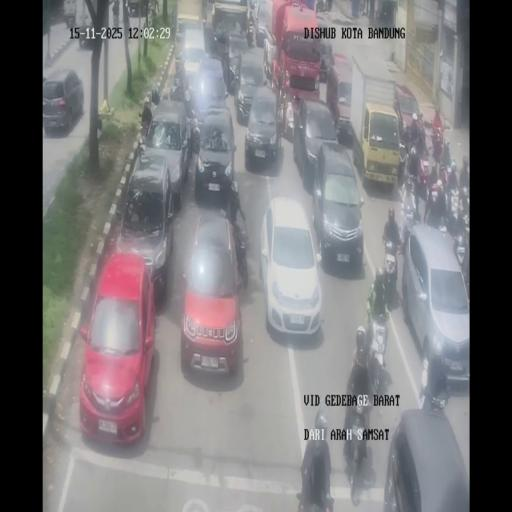car: (78, 251, 156, 442), (402, 228, 470, 386), (180, 213, 245, 375), (382, 403, 468, 510), (260, 194, 323, 336), (139, 100, 193, 202), (194, 107, 236, 205), (294, 98, 338, 190), (42, 68, 84, 134), (234, 48, 266, 122), (329, 54, 354, 138), (194, 56, 228, 114), (175, 22, 206, 78), (394, 82, 421, 138), (251, 0, 273, 47), (75, 8, 99, 49), (314, 40, 334, 82), (262, 33, 278, 84), (62, 0, 77, 27)
motorcycle: (342, 412, 374, 506), (365, 294, 391, 390), (298, 458, 334, 511), (380, 239, 400, 304), (169, 71, 195, 112), (450, 219, 468, 275), (233, 230, 249, 289), (186, 107, 202, 156), (425, 196, 446, 231), (399, 206, 416, 249), (407, 144, 421, 189), (430, 123, 444, 160), (444, 182, 457, 220), (276, 96, 287, 138), (458, 186, 470, 224), (135, 127, 148, 160), (398, 138, 408, 180), (415, 115, 426, 150), (441, 136, 452, 168), (438, 161, 450, 190), (429, 160, 439, 188), (412, 198, 422, 224), (112, 0, 120, 22), (316, 0, 326, 13), (359, 0, 365, 15)
truck: (350, 55, 400, 187), (267, 0, 322, 109), (211, 1, 250, 43), (126, 0, 148, 17)
